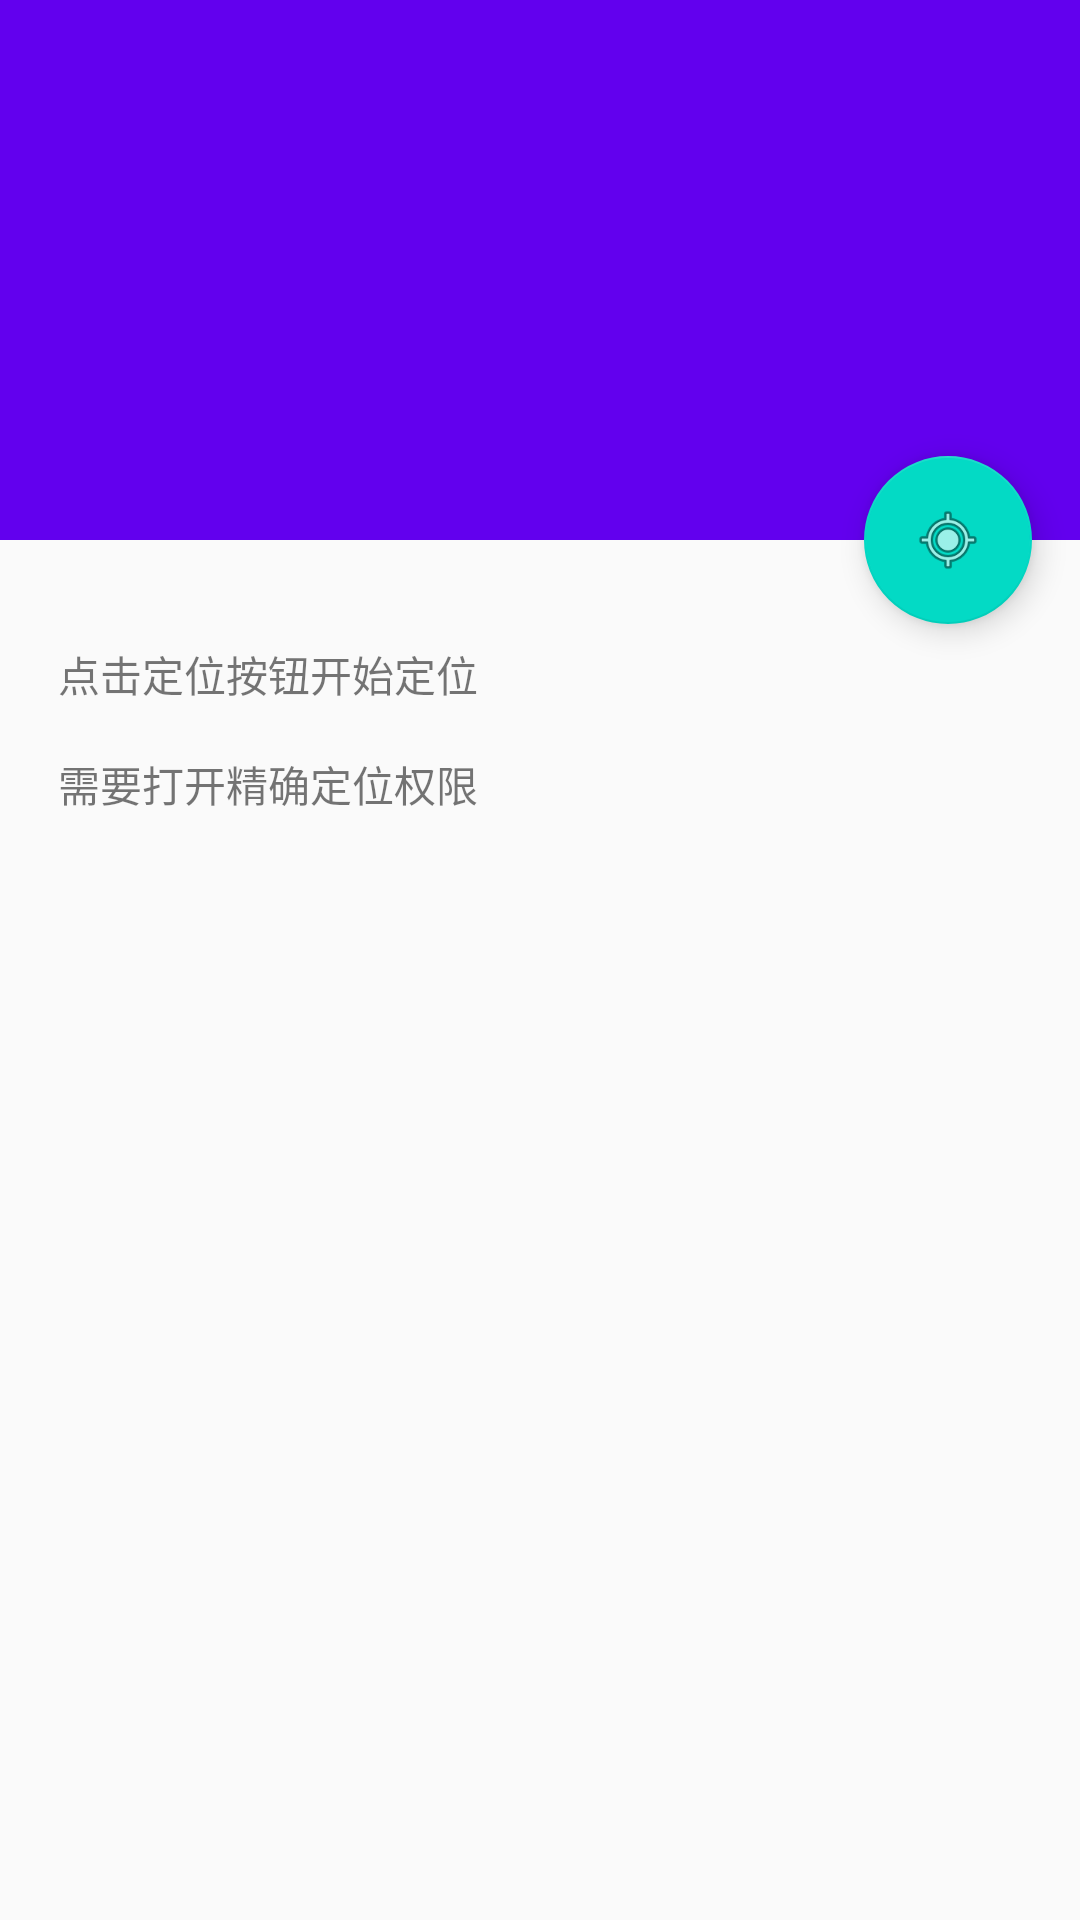

Where to tap for icons on this 1080 × 1920 app screen, as (x=x, y=y):
mylocation: (x=948, y=540)
